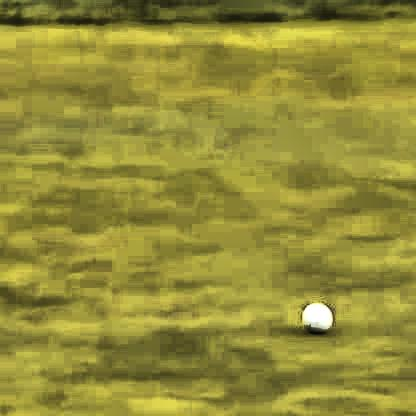golfball: (299, 298, 329, 329)
